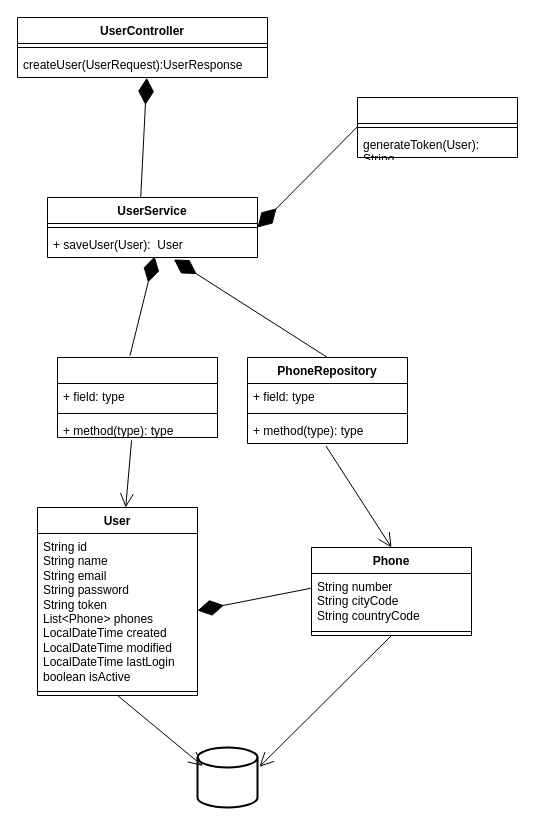
Image size: 535x826. Some labels were removed from this diagram. Each missing label, with the box of its shape:
H2: (196, 746, 258, 808)
JwtUtil: (356, 96, 518, 158)
UserRepository: (56, 356, 218, 438)
